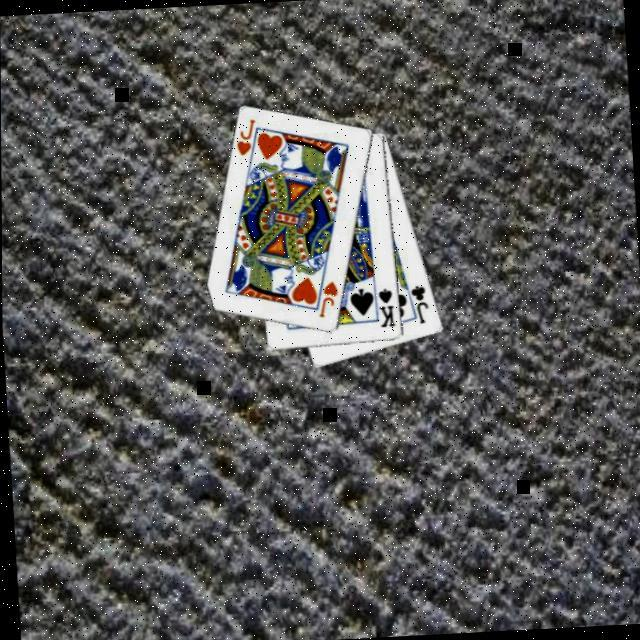JC: (410, 284, 434, 329)
JH: (316, 279, 344, 322), (234, 118, 262, 161)
KS: (378, 286, 400, 332)
